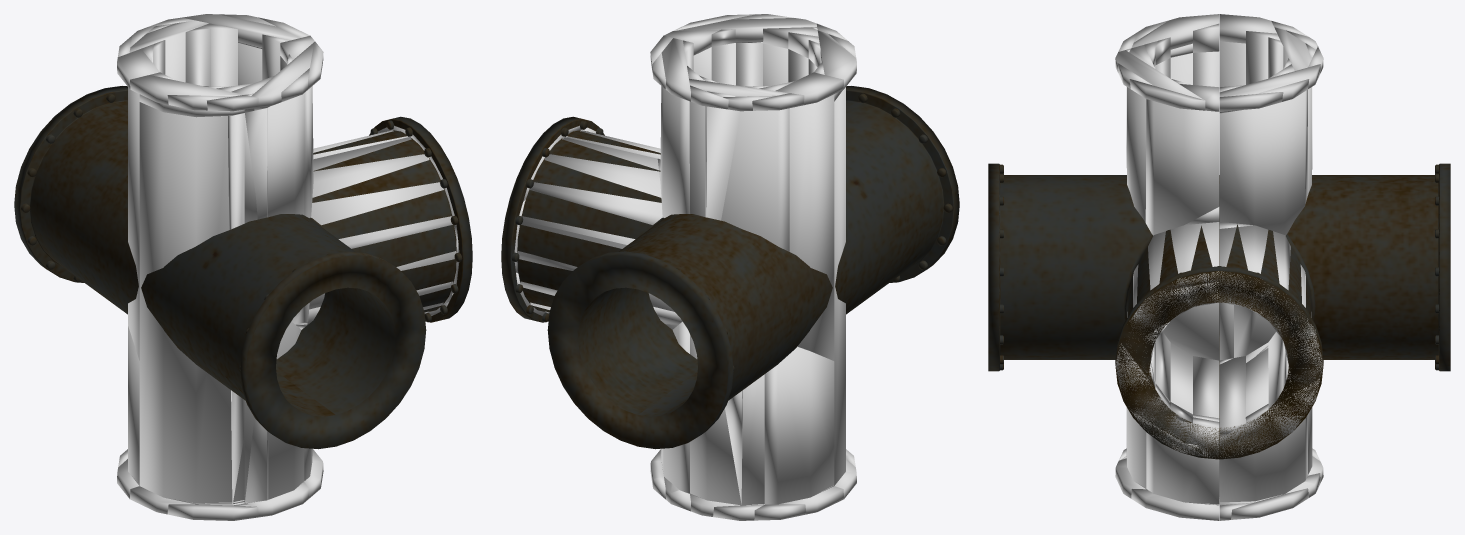
File: SM_Pipes_XLarge_3_Directions.fbx
3 views of the same model, side by side, from view 1: azimuth 30°, elevation 25°; view 2: azimuth 150°, elevation 25°; view 3: azimuth 270°, elevation 25° (orthographic).
Parts seen in each view (by area): view 1: SM_Pipes_XLarge_3_Directions, SM_Pipes_XLarge_3_Directions_ConvexHulls; view 2: SM_Pipes_XLarge_3_Directions, SM_Pipes_XLarge_3_Directions_ConvexHulls; view 3: SM_Pipes_XLarge_3_Directions_ConvexHulls, SM_Pipes_XLarge_3_Directions.
Part boxes in pixels (left/top/right/bottom): SM_Pipes_XLarge_3_Directions: left=14, top=86, right=472, bottom=449; SM_Pipes_XLarge_3_Directions_ConvexHulls: left=117, top=14, right=459, bottom=520; SM_Pipes_XLarge_3_Directions: left=501, top=86, right=959, bottom=449; SM_Pipes_XLarge_3_Directions_ConvexHulls: left=514, top=14, right=856, bottom=520; SM_Pipes_XLarge_3_Directions_ConvexHulls: left=1115, top=14, right=1323, bottom=520; SM_Pipes_XLarge_3_Directions: left=988, top=163, right=1450, bottom=459.
Size of the model in its own units: 2.9 by 4 by 4.
